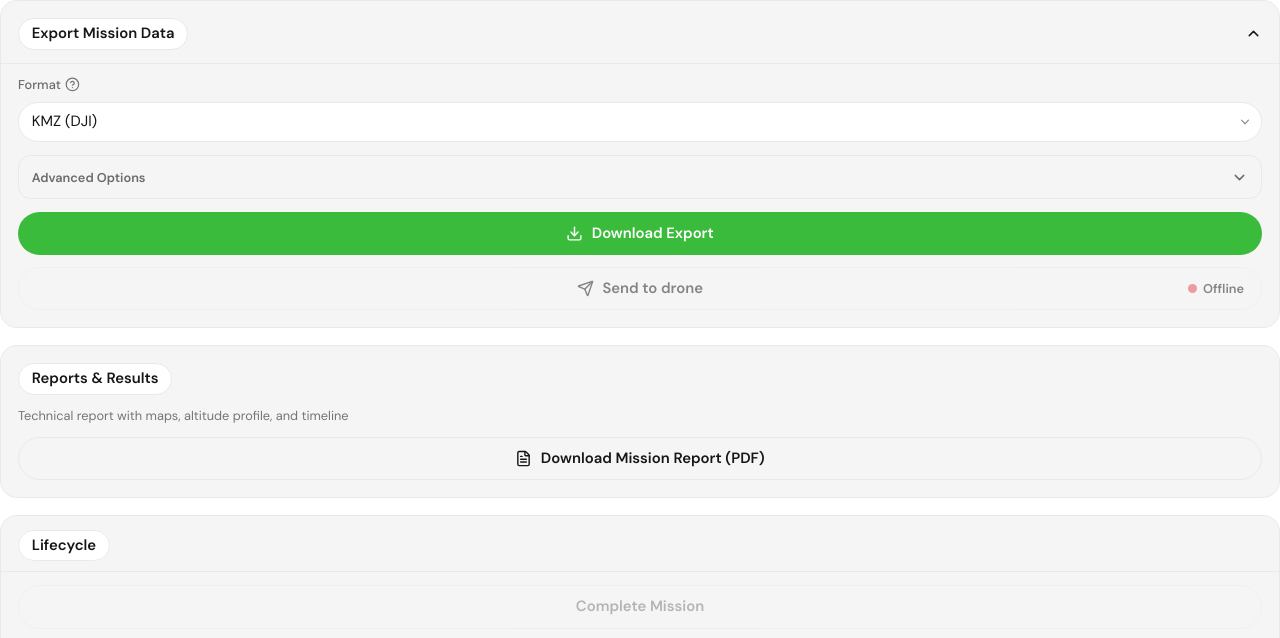
Test: ExportPanel - geozones toggle › renders the advisory note when KML or KMZ is selected and parent is on
This screenshot has width=1280, height=638.
Click the button with test id "advanced-options-toggle" at point(89, 177), box [32, 168, 1248, 186]
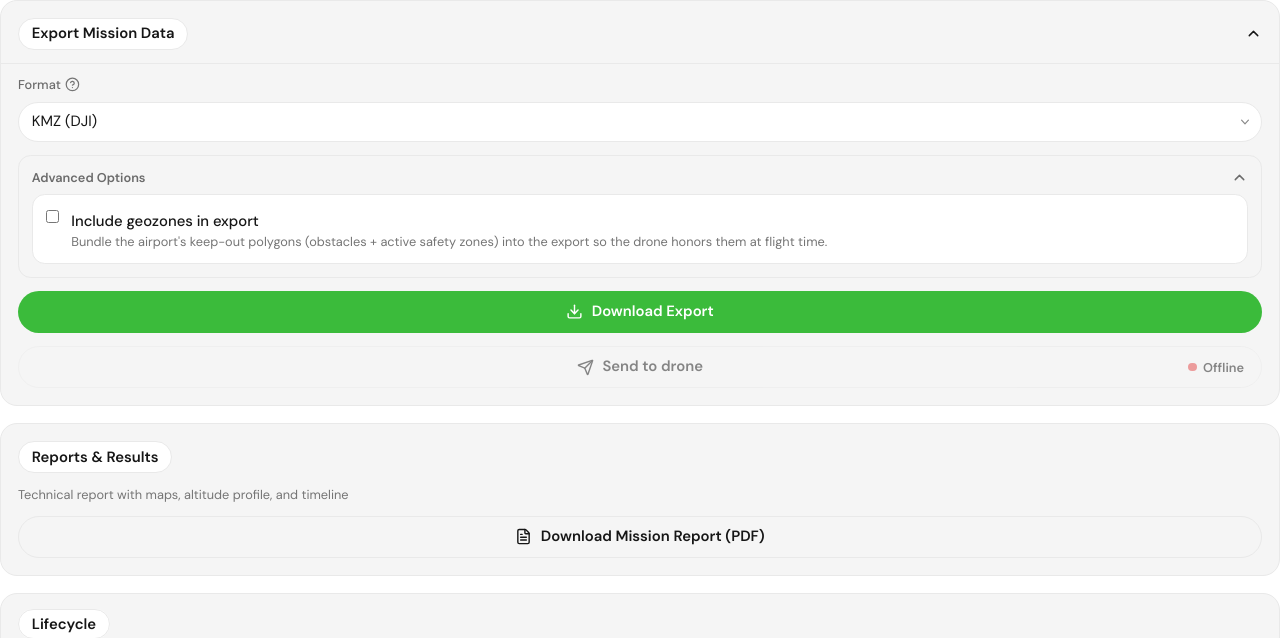
Click the checkbox with test id "include-geozones" at point(52, 216), box [46, 210, 58, 223]
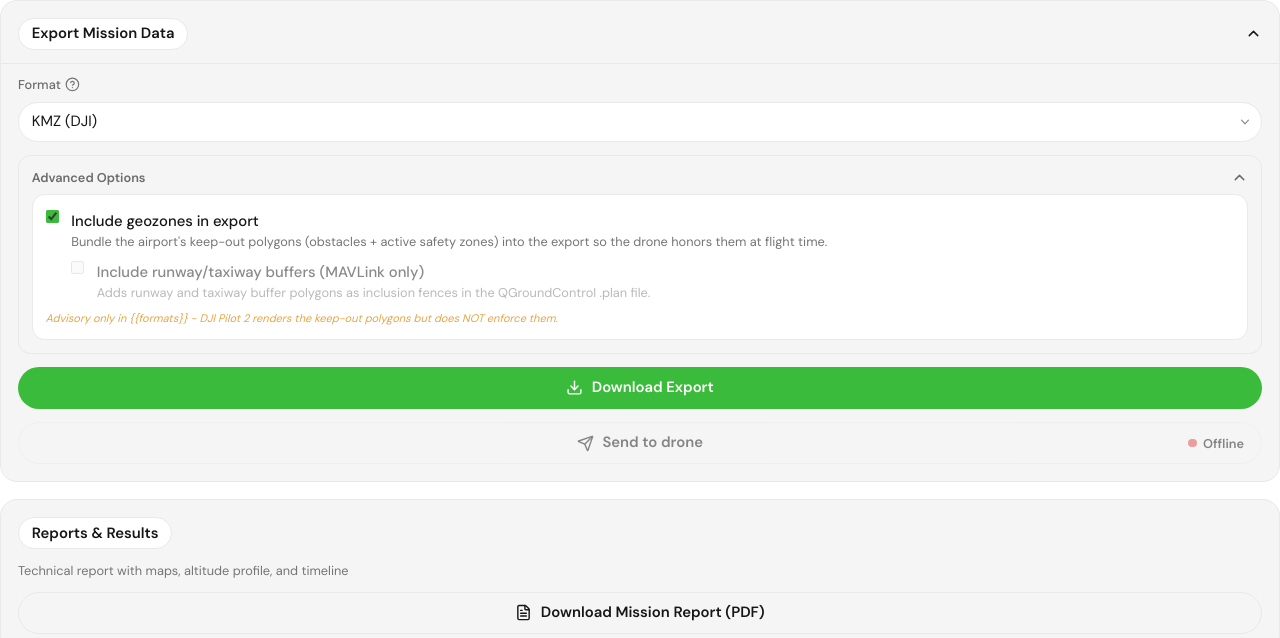
Now the text with test id "advisory-note" is shown, box [46, 311, 558, 325]
Select "JSON" in the dropdown with test id "format-select" at point(640, 122), box [18, 102, 1262, 142]
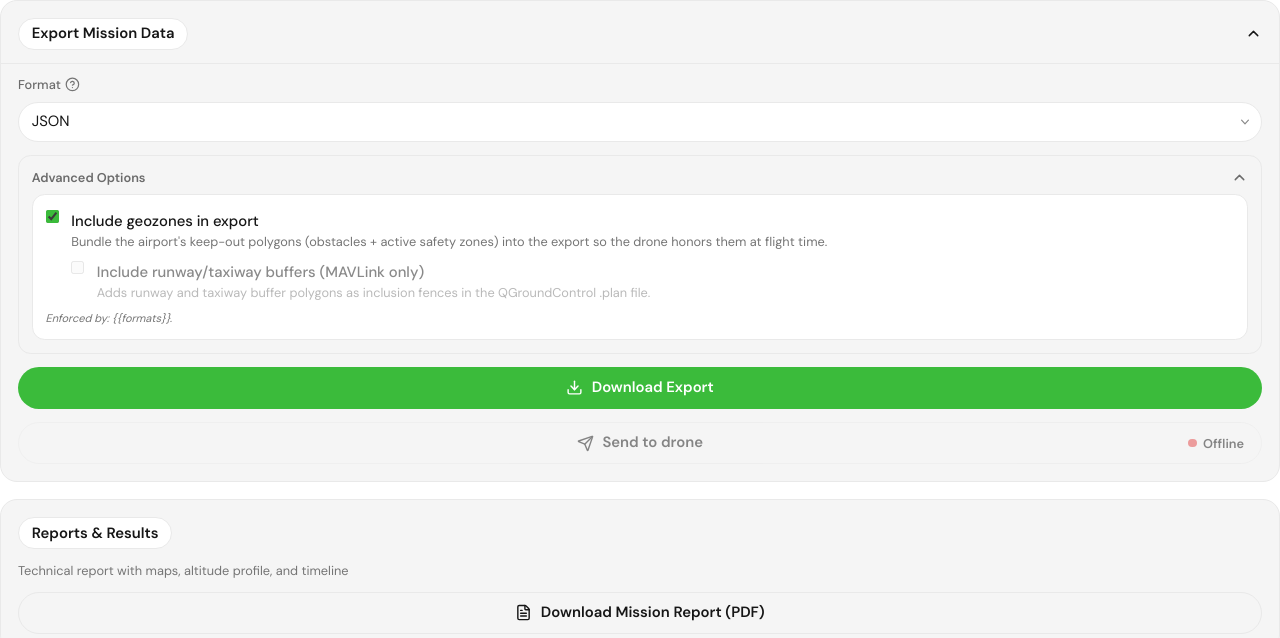
Now the text with test id "advisory-note" is gone
